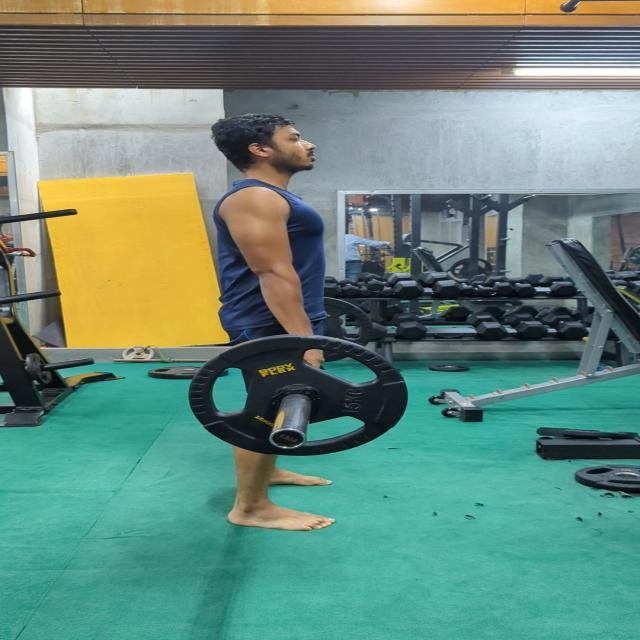Normal_Deadlifts: (206, 111, 341, 532)
